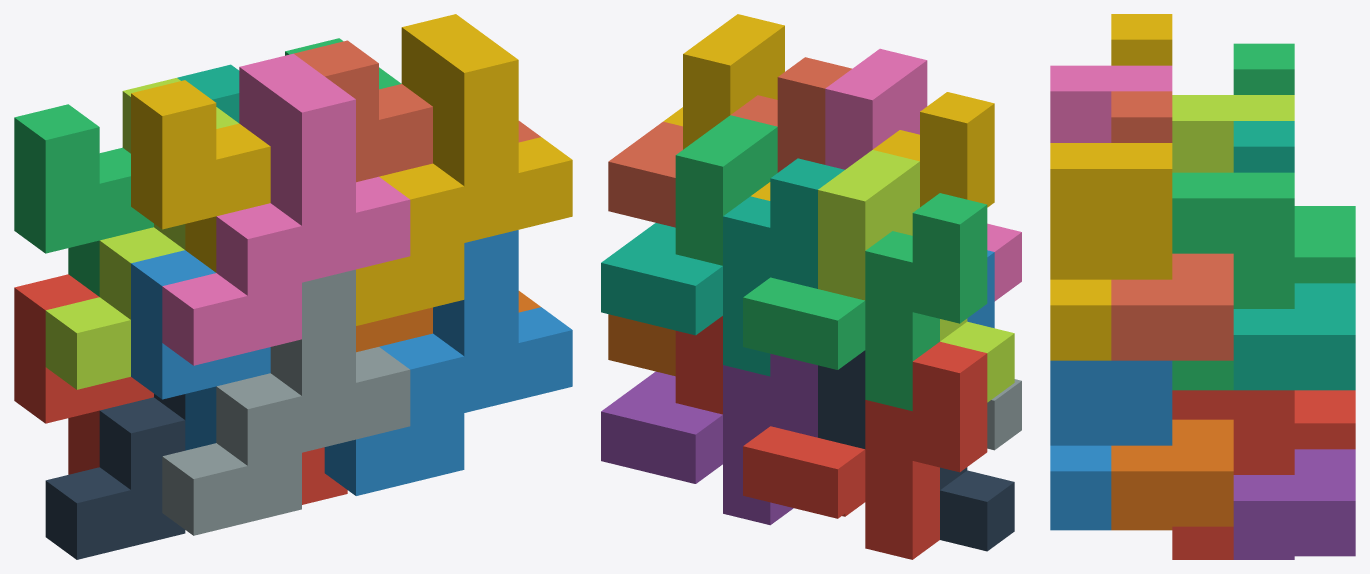
The model's file is tiling.obj.
The picture shows the model from 3 angles, left to right: view 1: azimuth 30°, elevation 25°; view 2: azimuth 150°, elevation 25°; view 3: azimuth 270°, elevation 25°; orthographic projection. The views are drawn at different scales.
Visible parts, largest first — view 1: copy_2_domain_4, copy_2_domain_8, copy_2_domain_2, copy_2_domain_6, copy_1_domain_4, copy_1_domain_3, copy_2_domain_1, copy_2_domain_3, copy_1_domain_2, copy_1_domain_1, copy_1_domain_8, copy_1_domain_6 (+2 smaller); view 2: copy_1_domain_1, copy_1_domain_3, copy_1_domain_7, copy_1_domain_5, copy_2_domain_3, copy_1_domain_8, copy_2_domain_4, copy_2_domain_7, copy_2_domain_1, copy_2_domain_8, copy_1_domain_4, copy_2_domain_5 (+3 smaller); view 3: copy_2_domain_8, copy_2_domain_6, copy_2_domain_7, copy_1_domain_8, copy_1_domain_7, copy_1_domain_6, copy_1_domain_5, copy_2_domain_5, copy_1_domain_3, copy_2_domain_4, copy_2_domain_3, copy_1_domain_1 (+1 smaller).
Boxes of the visible parts, x1,y1,x2,y2 form: copy_2_domain_4: (162,53,410,365); copy_2_domain_8: (356,14,572,325); copy_2_domain_2: (162,269,410,535); copy_2_domain_6: (324,230,572,495); copy_1_domain_4: (131,80,270,272); copy_1_domain_3: (14,104,153,296); copy_2_domain_1: (45,394,185,559); copy_2_domain_3: (45,78,238,389); copy_1_domain_2: (131,250,270,450); copy_1_domain_1: (14,274,153,474); copy_1_domain_8: (294,40,540,182); copy_1_domain_6: (356,291,540,352); copy_1_domain_1: (743,341,987,559); copy_1_domain_3: (743,193,987,411); copy_1_domain_7: (601,158,844,376); copy_1_domain_5: (601,353,817,525); copy_2_domain_3: (818,150,1014,402); copy_1_domain_8: (608,57,851,227); copy_2_domain_4: (825,48,1021,301); copy_2_domain_7: (675,115,777,265); copy_2_domain_1: (818,350,1014,551); copy_2_domain_8: (663,14,784,149); copy_1_domain_4: (751,92,994,207); copy_2_domain_5: (675,316,865,516); copy_2_domain_8: (1050,143,1172,360); copy_2_domain_6: (1050,360,1172,530); copy_2_domain_7: (1172,172,1294,390); copy_1_domain_8: (1111,91,1233,360); copy_1_domain_7: (1233,121,1355,390); copy_1_domain_6: (1111,419,1233,530); copy_1_domain_5: (1233,449,1355,559); copy_2_domain_5: (1172,390,1294,559); copy_1_domain_3: (1233,43,1355,283); copy_2_domain_4: (1050,65,1172,142); copy_2_domain_3: (1172,95,1294,172); copy_1_domain_1: (1294,390,1355,449).
Size of the model in its own units: 8 by 8 by 5.
